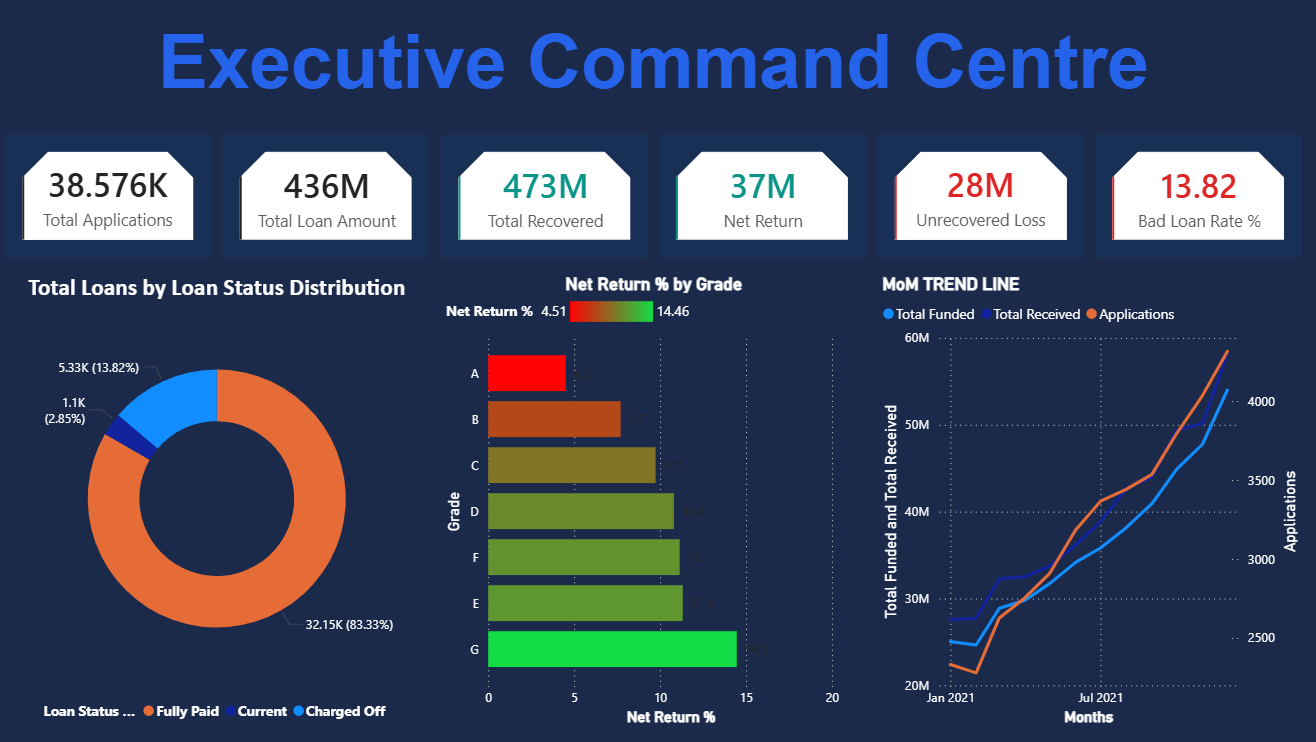

Layout of this report page (visuals, bound fields, positions):
{"tool":"powerbi","page":{"name":"EXECUTIVE","canvas":[1280,720],"ordinal":0},"visuals":[{"type":"cardVisual","fields":{"Data":["Bank_Loan_DATA.Bad Loan Rate %"]},"box":[1060.7,131,200.3,119.4],"z":0},{"type":"cardVisual","fields":{"Data":["Sum(Bank_Loan_DATA.loan_amount)"]},"box":[218.3,131,200.3,119.4],"z":1000},{"type":"cardVisual","fields":{"Data":["Bank_Loan_DATA.Unrecovered Loss"]},"box":[850.1,131,200.3,119.4],"z":2000},{"type":"cardVisual","fields":{"Data":["Sum(Bank_Loan_DATA.total_payment)"]},"box":[428.9,131,200.3,119.4],"z":3000},{"type":"cardVisual","fields":{"Data":["Bank_Loan_DATA.Net Return"]},"box":[639.5,131,200.3,119.4],"z":4000},{"type":"cardVisual","fields":{"Data":["CountNonNull(Bank_Loan_DATA.member_id)"]},"box":[9,131,199,119.4],"z":5000},{"type":"donutChart","fields":{"Category":["Bank_Loan_DATA.loan_status"],"Y":["CountNonNull(Bank_Loan_DATA.id)"]},"box":[9,265.8,409.6,441.7],"z":6000},{"type":"clusteredBarChart","fields":{"Y":["Bank_Loan_DATA.Net Return %"],"Category":["Bank_Loan_DATA.grade"]},"box":[428.9,265.8,410.9,441.7],"z":7000},{"type":"lineChart","title":"MoM TREND LINE","fields":{"Y":["Bank_Loan_DATA.Total Funded","Bank_Loan_DATA.Total Received"],"Y2":["Bank_Loan_DATA.Applications"],"Category":["Bank_Loan_DATA.MonthDate"]},"box":[850.1,265.8,410.9,441.7],"z":8000},{"type":"textbox","box":[9,16.7,1252,101.4],"z":9000}]}

Visuals, with their boxes in screenshot pixels (x1, y1, x2, y2), scaled from the page's 1280x720 canvas onto the 1316x742 screenshot:
cardVisual - Bank_Loan_DATA.Bad Loan Rate %: detection(1091, 135, 1296, 258)
cardVisual - Sum(Bank_Loan_DATA.loan_amount): detection(224, 135, 430, 258)
cardVisual - Bank_Loan_DATA.Unrecovered Loss: detection(874, 135, 1080, 258)
cardVisual - Sum(Bank_Loan_DATA.total_payment): detection(441, 135, 647, 258)
cardVisual - Bank_Loan_DATA.Net Return: detection(657, 135, 863, 258)
cardVisual - CountNonNull(Bank_Loan_DATA.member_id): detection(9, 135, 214, 258)
donutChart - Bank_Loan_DATA.loan_status x CountNonNull(Bank_Loan_DATA.id): detection(9, 274, 430, 729)
clusteredBarChart - Bank_Loan_DATA.Net Return % x Bank_Loan_DATA.grade: detection(441, 274, 863, 729)
"MoM TREND LINE" lineChart: detection(874, 274, 1296, 729)
textbox: detection(9, 17, 1296, 122)
